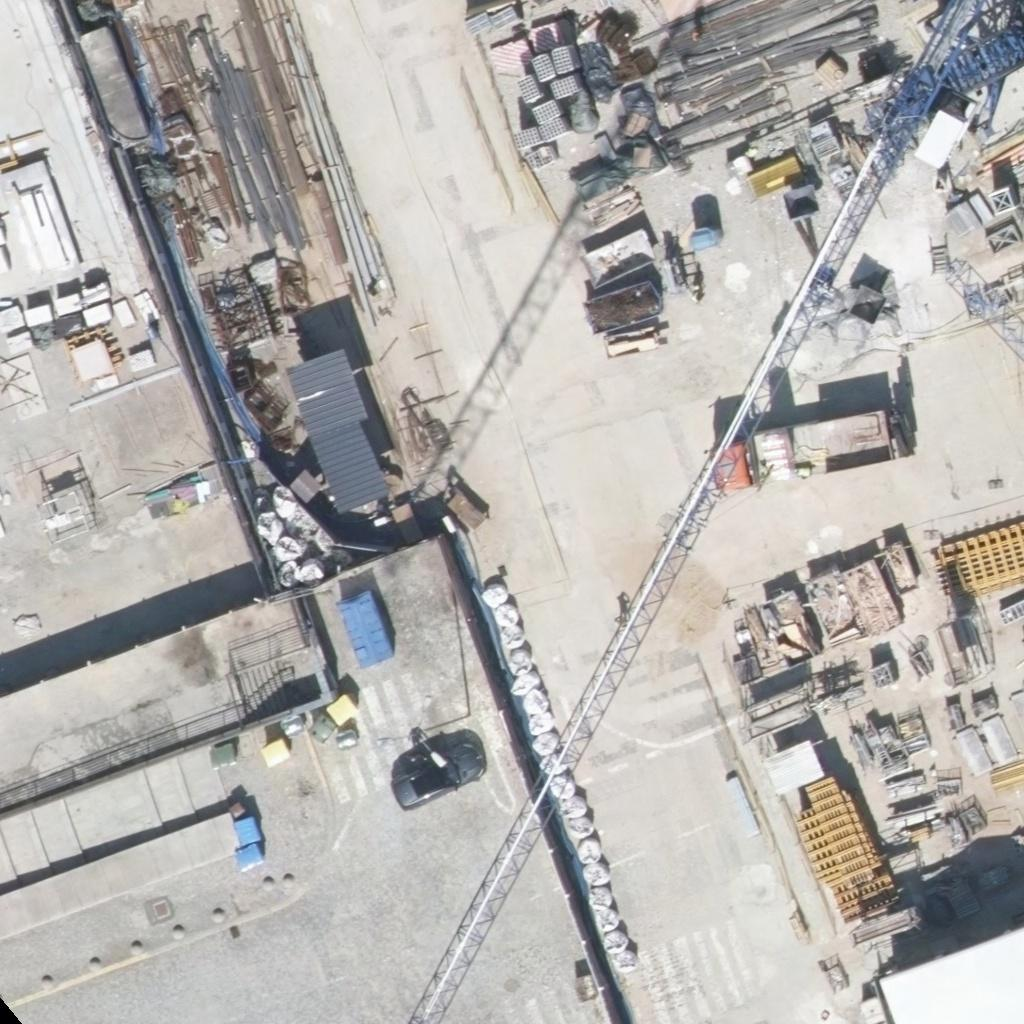kontener: (287, 350, 387, 511)
samochod_osobowy: (392, 729, 486, 809)
